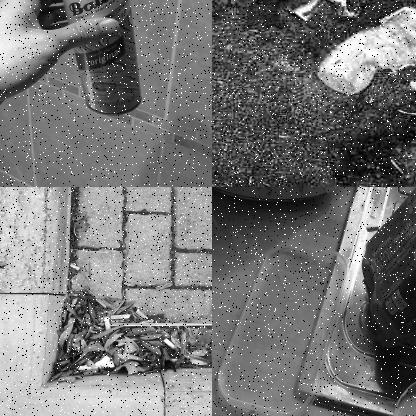cardboard: (361, 187, 415, 350)
metal: (44, 0, 146, 117)
plastic: (218, 240, 348, 415), (322, 10, 415, 91), (92, 315, 211, 333), (285, 0, 355, 19)
